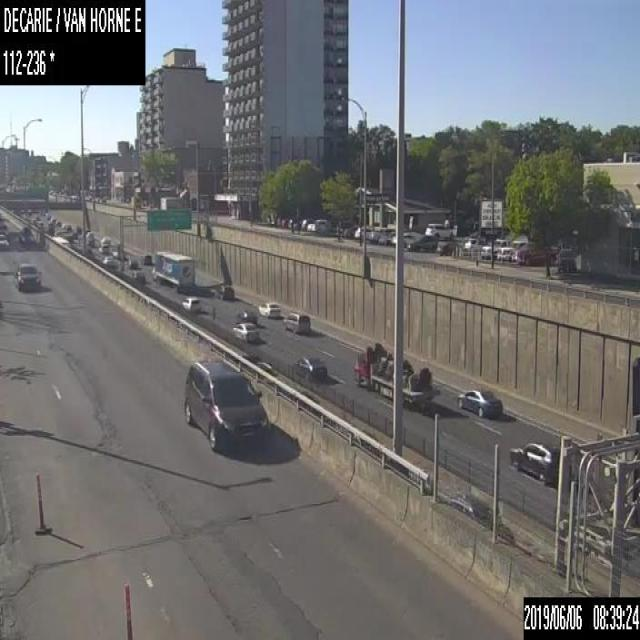construction: (34, 469, 50, 536), (122, 580, 133, 639)
vehicle: (184, 359, 270, 450), (353, 338, 438, 412), (508, 441, 560, 482), (152, 251, 199, 294), (443, 491, 489, 525), (457, 388, 502, 416), (514, 241, 555, 264), (13, 262, 42, 292), (296, 355, 328, 380), (232, 321, 259, 344), (282, 312, 310, 334), (406, 233, 436, 252), (424, 222, 452, 240), (555, 248, 576, 272), (437, 237, 462, 255), (259, 298, 280, 316), (392, 232, 416, 247), (126, 271, 146, 288), (214, 283, 233, 300), (77, 229, 94, 248), (237, 308, 256, 324), (306, 218, 327, 232), (17, 227, 34, 244), (497, 245, 514, 262), (182, 296, 200, 312), (99, 255, 116, 268), (354, 226, 371, 239), (126, 253, 139, 268), (0, 232, 9, 251), (140, 253, 151, 265), (98, 242, 109, 253), (464, 238, 475, 249), (101, 236, 110, 246)
